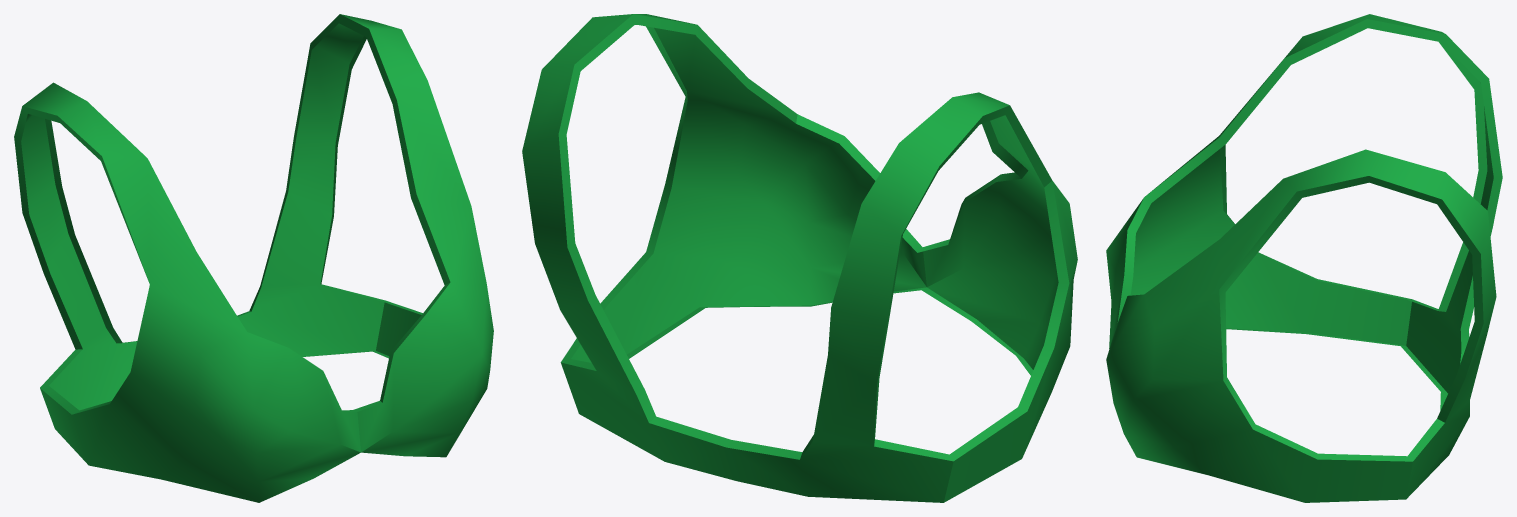
Rendered from Bra03.fbx.
3 renders of one model, left to right at view 1: azimuth 30°, elevation 25°; view 2: azimuth 150°, elevation 25°; view 3: azimuth 270°, elevation 25°, orthographic. The views are drawn at different scales.
Parts seen in each view (by area): view 1: Bra03; view 2: Bra03; view 3: Bra03.
Part boxes in pixels (box(x1,y1,x2,y2)): Bra03: box(14, 14, 493, 502); Bra03: box(522, 14, 1077, 502); Bra03: box(1106, 14, 1502, 502).
Bounding box in the file's own units: 29.25 × 25.73 × 27.11.
